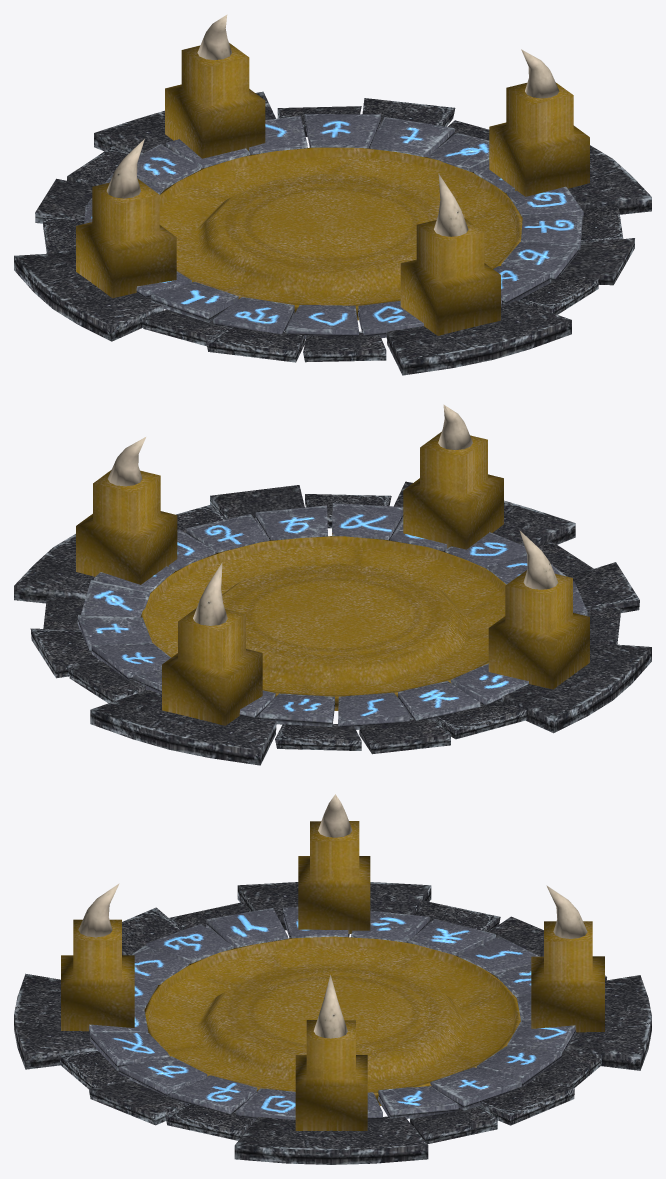
File: altar.glb
The picture shows the model from 3 angles, top to bottom: view 1: azimuth 30°, elevation 25°; view 2: azimuth 150°, elevation 25°; view 3: azimuth 270°, elevation 25°; orthographic projection.
Parts seen in each view (by area): view 1: Protal_lp; view 2: Protal_lp; view 3: Protal_lp.
Boxes of the visible parts, x1,y1,x2,y2 form: Protal_lp: [14, 14, 651, 375]; Protal_lp: [14, 404, 651, 765]; Protal_lp: [14, 794, 651, 1164].
Size of the model in its own units: 2 by 0.5175 by 2.
1 material, 1 textured.
